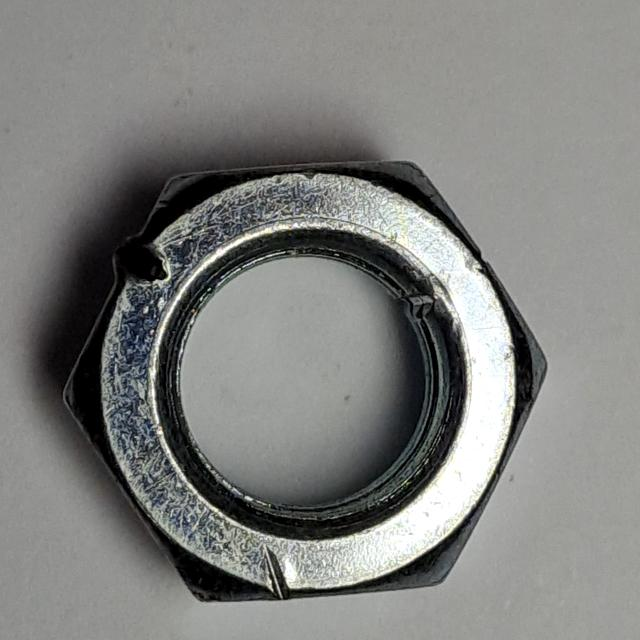Scratches: (51, 149, 559, 620)
